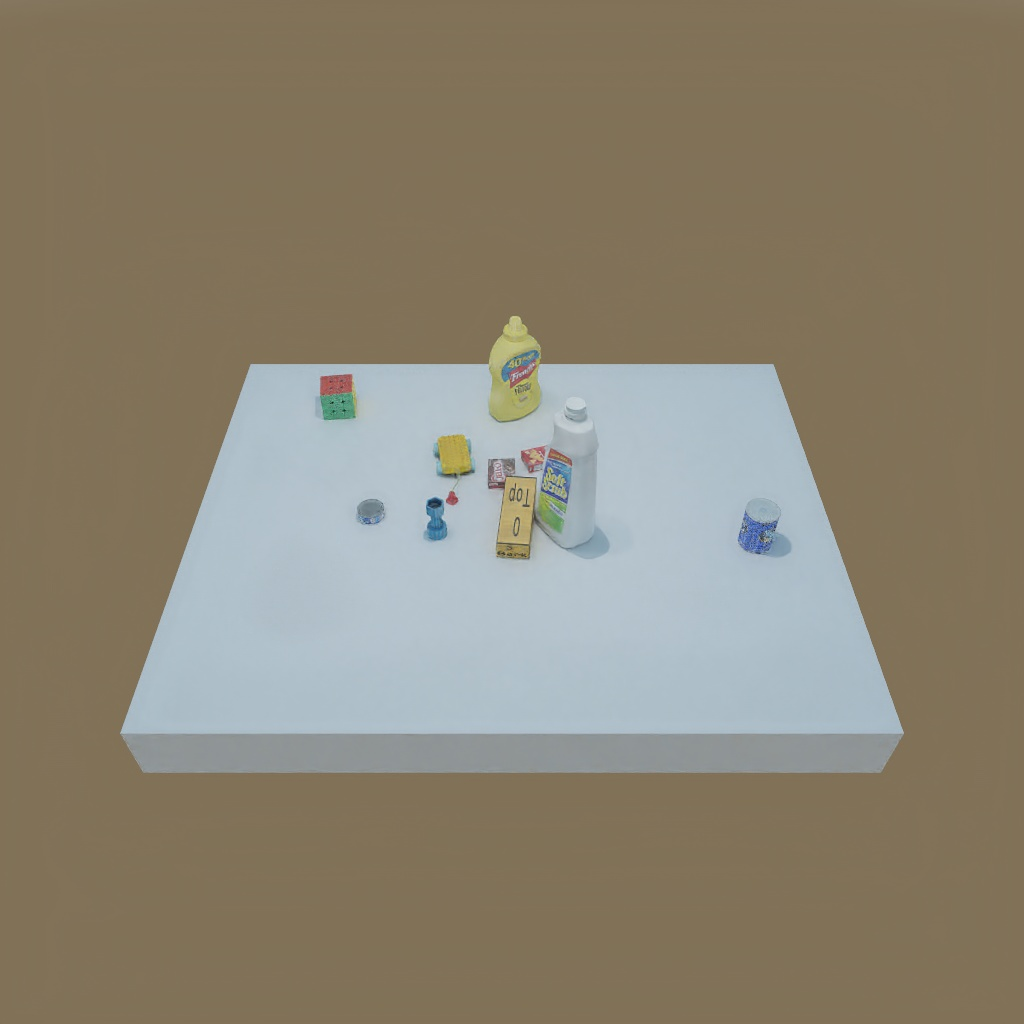jenga: (493, 473, 541, 559)
master_chef_can: (732, 496, 784, 557)
mustard_bottle: (490, 317, 543, 417)
pudding_box: (486, 454, 519, 490)
rubiks_cube: (317, 370, 358, 423)
